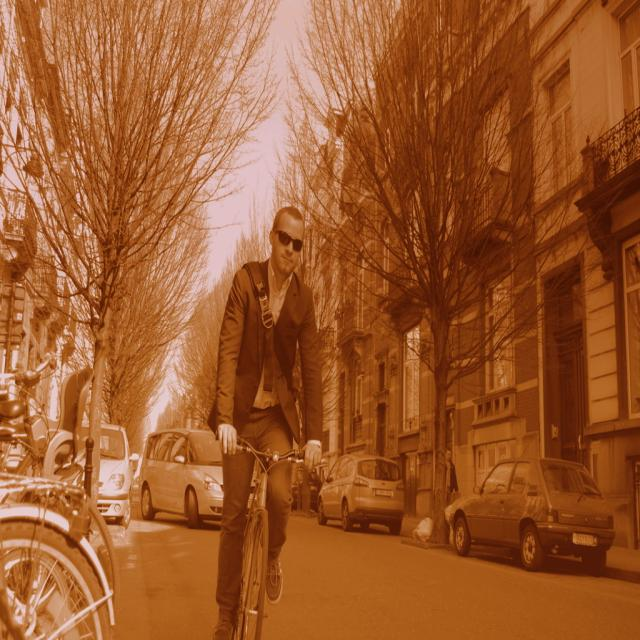car: (452, 458, 617, 563), (137, 416, 251, 533), (313, 454, 403, 530)
